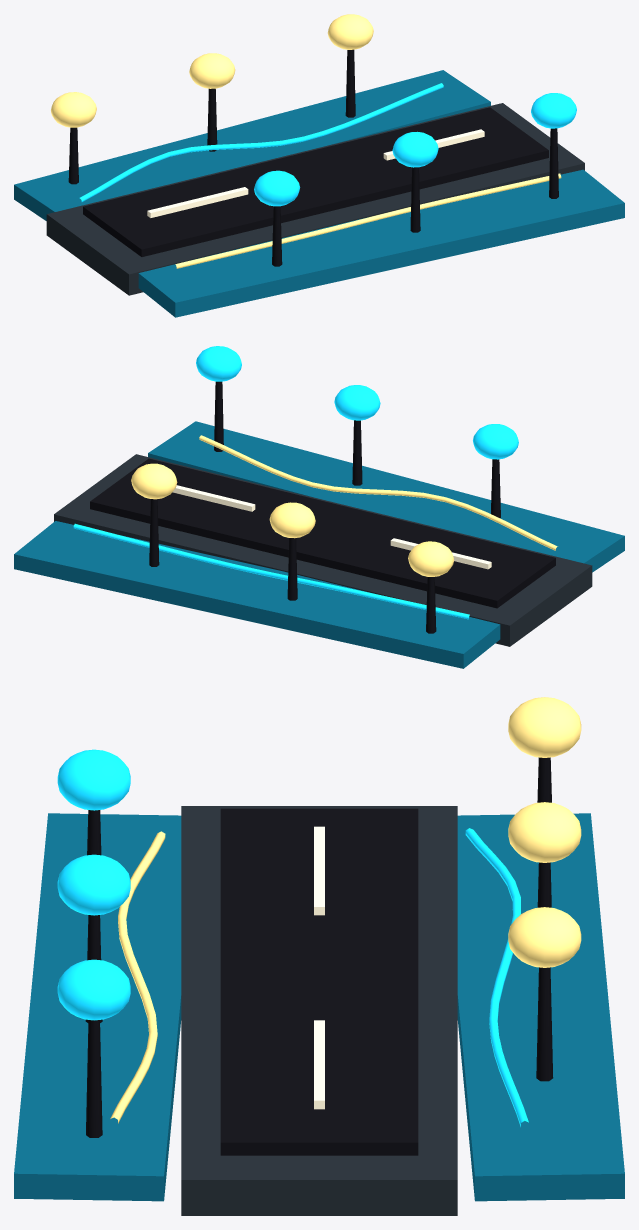
File: road-vegetation-verge.glb
The picture shows the model from 3 angles, top to bottom: view 1: azimuth 30°, elevation 25°; view 2: azimuth 150°, elevation 25°; view 3: azimuth 270°, elevation 25°; orthographic projection. The views are drawn at different scales.
Visible parts, largest first — view 1: grass-bank-right, verge-road-surface, grass-bank-left, verge-road-bed, verge-root-thread-left, verge-root-thread-right, verge-crown-1, verge-crown-2, verge-crown-4, verge-crown-3, verge-crown-5, verge-crown-0 (+8 smaller); view 2: grass-bank-left, verge-road-surface, grass-bank-right, verge-road-bed, verge-root-thread-right, verge-root-thread-left, verge-crown-4, verge-crown-5, verge-crown-0, verge-crown-2, verge-crown-3, verge-crown-1 (+8 smaller); view 3: verge-road-surface, grass-bank-left, verge-road-bed, grass-bank-right, verge-crown-4, verge-crown-5, verge-crown-2, verge-crown-1, verge-crown-3, verge-crown-0, verge-root-thread-right, verge-root-thread-left (+4 smaller).
Boxes of the visible parts, <box> form: grass-bank-right: <box>138,169,624,317</box>; verge-road-surface: <box>83,107,548,256</box>; grass-bank-left: <box>14,70,490,220</box>; verge-road-bed: <box>46,103,584,295</box>; verge-root-thread-left: <box>79,83,443,201</box>; verge-root-thread-right: <box>175,173,561,268</box>; verge-crown-1: <box>254,170,300,206</box>; verge-crown-2: <box>189,53,235,88</box>; verge-crown-4: <box>327,14,373,49</box>; verge-crown-3: <box>392,131,438,167</box>; verge-crown-5: <box>531,93,576,128</box>; verge-crown-0: <box>51,92,96,127</box>; grass-bank-left: <box>14,521,500,668</box>; verge-road-surface: <box>90,458,555,608</box>; grass-bank-right: <box>148,421,624,572</box>; verge-road-bed: <box>54,454,592,646</box>; verge-root-thread-right: <box>199,435,557,550</box>; verge-root-thread-left: <box>73,523,469,619</box>; verge-crown-4: <box>131,463,177,499</box>; verge-crown-5: <box>196,346,241,381</box>; verge-crown-0: <box>408,541,453,576</box>; verge-crown-2: <box>269,502,315,538</box>; verge-crown-3: <box>334,385,380,420</box>; verge-crown-1: <box>473,424,518,459</box>; verge-road-surface: <box>220,808,418,1155</box>; grass-bank-left: <box>457,813,624,1201</box>; verge-road-bed: <box>181,806,457,1215</box>; grass-bank-right: <box>14,813,181,1201</box>; verge-crown-4: <box>508,907,581,967</box>; verge-crown-5: <box>57,959,130,1020</box>; verge-crown-2: <box>508,802,581,862</box>; verge-crown-1: <box>57,749,130,810</box>; verge-crown-3: <box>57,854,130,915</box>; verge-crown-0: <box>508,697,581,757</box>; verge-root-thread-right: <box>110,831,165,1123</box>; verge-root-thread-left: <box>465,828,528,1126</box>.
Size of the model in its own units: 2.24 by 0.5714 by 1.55.
